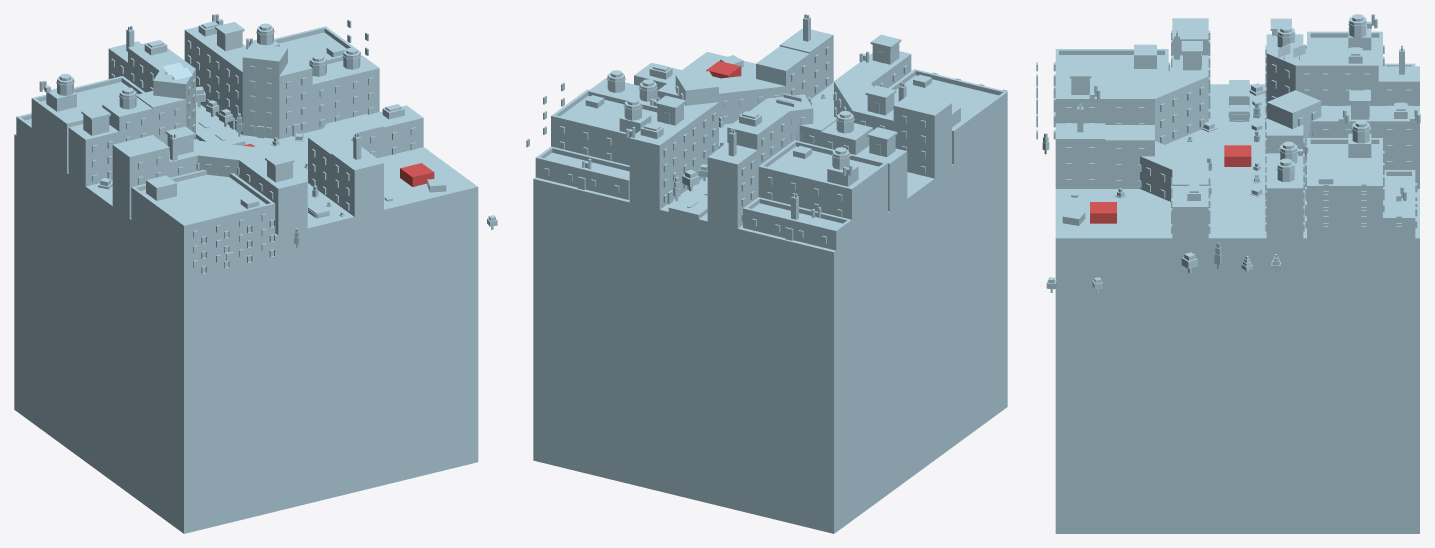
Rendered from block_15_sewersystem_100.glb.
3 views of the same model, side by side, from view 1: azimuth 30°, elevation 25°; view 2: azimuth 150°, elevation 25°; view 3: azimuth 270°, elevation 25° (orthographic). The views are drawn at different scales.
Visible parts, largest first — view 1: Patch_MidRight_b16_SL, Cerda_MidRight_b16_SL, Insets_MidRight_b16_SL, CerdaRoofProps_MidRight_b16_SL, Roads_MidRight_b16_SL, Green_MidRight_b16_SL, SL_Net_15; view 2: Patch_MidRight_b16_SL, Cerda_MidRight_b16_SL, Insets_MidRight_b16_SL, CerdaRoofProps_MidRight_b16_SL, Roads_MidRight_b16_SL; view 3: Patch_MidRight_b16_SL, Cerda_MidRight_b16_SL, Insets_MidRight_b16_SL, CerdaRoofProps_MidRight_b16_SL, SL_Net_15, Green_MidRight_b16_SL, Asset_Truck.008_SL.
Part boxes in pixels (x1=…): Patch_MidRight_b16_SL: x1=14, y1=102, x2=478, y2=533; Cerda_MidRight_b16_SL: x1=68, y1=26, x2=423, y2=251; Insets_MidRight_b16_SL: x1=16, y1=19, x2=368, y2=290; CerdaRoofProps_MidRight_b16_SL: x1=39, y1=14, x2=404, y2=182; Roads_MidRight_b16_SL: x1=92, y1=105, x2=345, y2=241; Green_MidRight_b16_SL: x1=370, y1=210, x2=478, y2=237; SL_Net_15: x1=243, y1=143, x2=434, y2=186; Patch_MidRight_b16_SL: x1=533, y1=52, x2=1007, y2=533; Cerda_MidRight_b16_SL: x1=590, y1=28, x2=951, y2=228; Insets_MidRight_b16_SL: x1=526, y1=69, x2=1007, y2=255; CerdaRoofProps_MidRight_b16_SL: x1=582, y1=14, x2=906, y2=219; Roads_MidRight_b16_SL: x1=668, y1=179, x2=707, y2=219; Patch_MidRight_b16_SL: x1=1055, y1=84, x2=1419, y2=533; Cerda_MidRight_b16_SL: x1=1055, y1=18, x2=1419, y2=290; Insets_MidRight_b16_SL: x1=1036, y1=27, x2=1417, y2=255; CerdaRoofProps_MidRight_b16_SL: x1=1069, y1=14, x2=1420, y2=201; SL_Net_15: x1=1090, y1=145, x2=1251, y2=223; Green_MidRight_b16_SL: x1=1055, y1=268, x2=1189, y2=290; Asset_Truck.008_SL: x1=1228, y1=80, x2=1249, y2=121.
Size of the model in its own units: 10.04 by 11.2 by 10.01.
